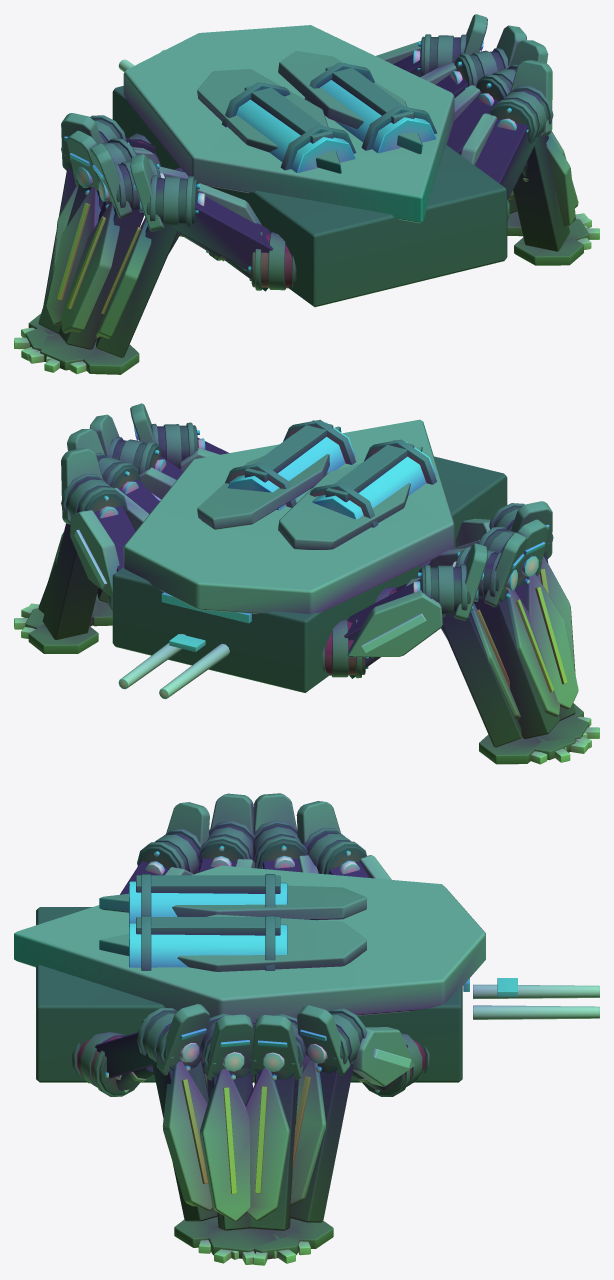
The model's file is brood.glb.
3 renders of one model, top to bottom at view 1: azimuth 30°, elevation 25°; view 2: azimuth 150°, elevation 25°; view 3: azimuth 270°, elevation 25°, orthographic. The views are drawn at different scales.
Parts seen in each view (by area): view 1: Body__armor, Body__dark, Hip_7_Knee__dark, Hip_6__dark, Hip_6_Knee__dark, Plate_0__armor_sub, Hip_4_Knee__armor, Plate_1__armor_sub, Body__gunmetal, Sac_0__emit_core, Hip_4_Knee__dark, Hip_7_Knee__gunmetal (+36 smaller); view 2: Body__armor, Body__dark, Hip_0_Knee__dark, Hip_1_Knee__dark, Plate_0__armor_sub, Hip_2_Knee__dark, Plate_1__armor_sub, Hip_0__armor, Body__gunmetal, Hip_4_Knee__armor, Hip_0_Knee__gunmetal, Hip_1_Knee__gunmetal (+40 smaller); view 3: Body__armor, Body__dark, Plate_1__armor_sub, Hip_5_Knee__armor, Plate_0__armor_sub, Hip_3_Knee__armor, Hip_1_Knee__dark, Hip_7_Knee__armor, Sac_1__emit_core, Gun__chrome, Hip_1_Knee__armor, Hip_3_Knee__dark (+35 smaller).
Boxes of the visible parts, x1=… form: Body__armor: x1=123, y1=25, x2=454, y2=223; Body__dark: x1=112, y1=86, x2=507, y2=307; Hip_7_Knee__dark: x1=490, y1=90, x2=569, y2=251; Hip_6__dark: x1=171, y1=192, x2=292, y2=291; Hip_6_Knee__dark: x1=96, y1=178, x2=197, y2=357; Plate_0__armor_sub: x1=197, y1=69, x2=341, y2=173; Hip_4_Knee__armor: x1=61, y1=202, x2=119, y2=333; Plate_1__armor_sub: x1=278, y1=51, x2=422, y2=154; Body__gunmetal: x1=221, y1=62, x2=436, y2=170; Sac_0__emit_core: x1=236, y1=99, x2=355, y2=172; Hip_4_Knee__dark: x1=59, y1=161, x2=160, y2=349; Hip_7_Knee__gunmetal: x1=489, y1=85, x2=583, y2=265; Body__armor: x1=123, y1=419, x2=454, y2=613; Body__dark: x1=112, y1=456, x2=507, y2=692; Hip_0_Knee__dark: x1=420, y1=567, x2=521, y2=747; Hip_1_Knee__dark: x1=42, y1=478, x2=126, y2=639; Plate_0__armor_sub: x1=278, y1=446, x2=422, y2=549; Hip_2_Knee__dark: x1=455, y1=550, x2=559, y2=739; Plate_1__armor_sub: x1=197, y1=426, x2=341, y2=529; Hip_0__armor: x1=347, y1=590, x2=442, y2=657; Body__gunmetal: x1=225, y1=419, x2=436, y2=527; Hip_4_Knee__armor: x1=526, y1=573, x2=578, y2=709; Hip_0_Knee__gunmetal: x1=424, y1=564, x2=541, y2=764; Hip_1_Knee__gunmetal: x1=28, y1=473, x2=127, y2=653; Body__armor: x1=14, y1=865, x2=485, y2=1024; Body__dark: x1=36, y1=907, x2=462, y2=1082; Plate_1__armor_sub: x1=99, y1=914, x2=366, y2=971; Hip_5_Knee__armor: x1=200, y1=1069, x2=250, y2=1221; Plate_0__armor_sub: x1=99, y1=885, x2=366, y2=920; Hip_3_Knee__armor: x1=245, y1=1068, x2=289, y2=1220; Hip_1_Knee__dark: x1=290, y1=1013, x2=362, y2=1222; Hip_7_Knee__armor: x1=162, y1=1061, x2=212, y2=1210; Sac_1__emit_core: x1=129, y1=923, x2=287, y2=967; Gun__chrome: x1=473, y1=984, x2=599, y2=1019; Hip_1_Knee__armor: x1=290, y1=1060, x2=325, y2=1206; Hip_3_Knee__dark: x1=250, y1=1021, x2=300, y2=1230.
Size of the model in its own units: 3.34 by 1.21 by 2.86.
